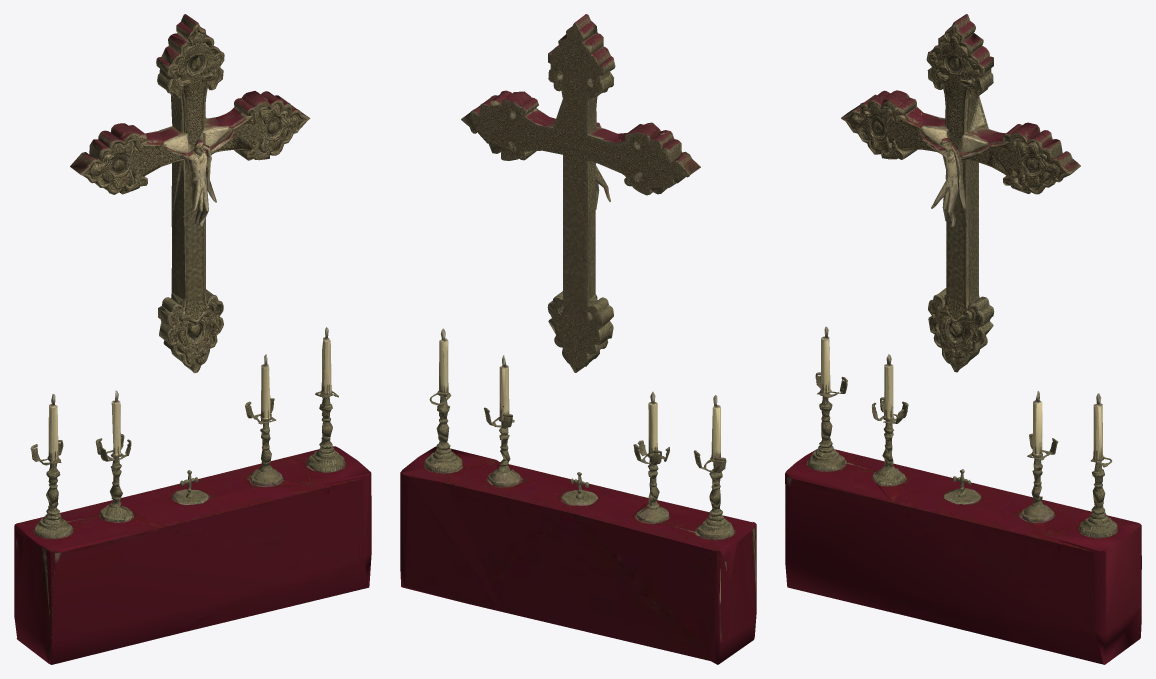
The model's file is mx_pr_altar.glb.
The picture shows the model from 3 angles, left to right: view 1: azimuth 30°, elevation 25°; view 2: azimuth 150°, elevation 25°; view 3: azimuth 330°, elevation 25°; orthographic projection.
Size of the model in its own units: 1.09 by 1.9 by 0.2266.
1 material, 1 textured.
